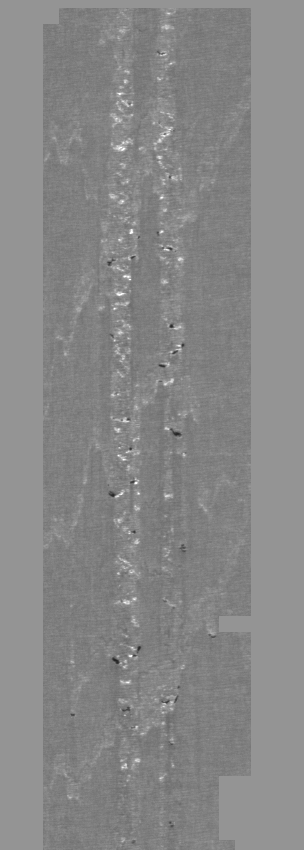oxl: (35, 10, 269, 840)
